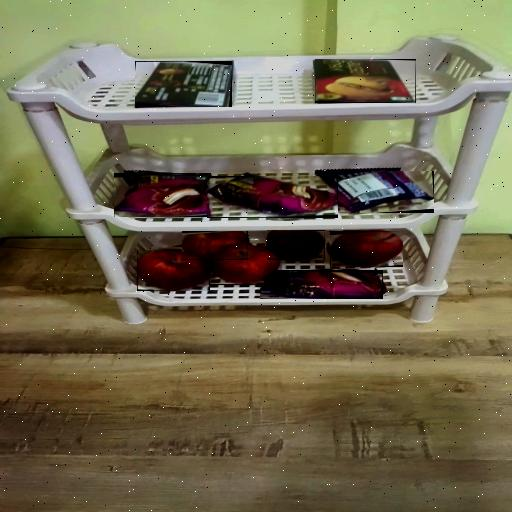Apple: (137, 250, 210, 291), (328, 231, 402, 267), (209, 246, 277, 285), (182, 231, 248, 260), (267, 230, 325, 260)
Choco Fills: (135, 61, 232, 107), (315, 59, 416, 103)
Choco Pie: (207, 176, 338, 218), (317, 171, 434, 213), (114, 173, 211, 217), (260, 270, 383, 299)
